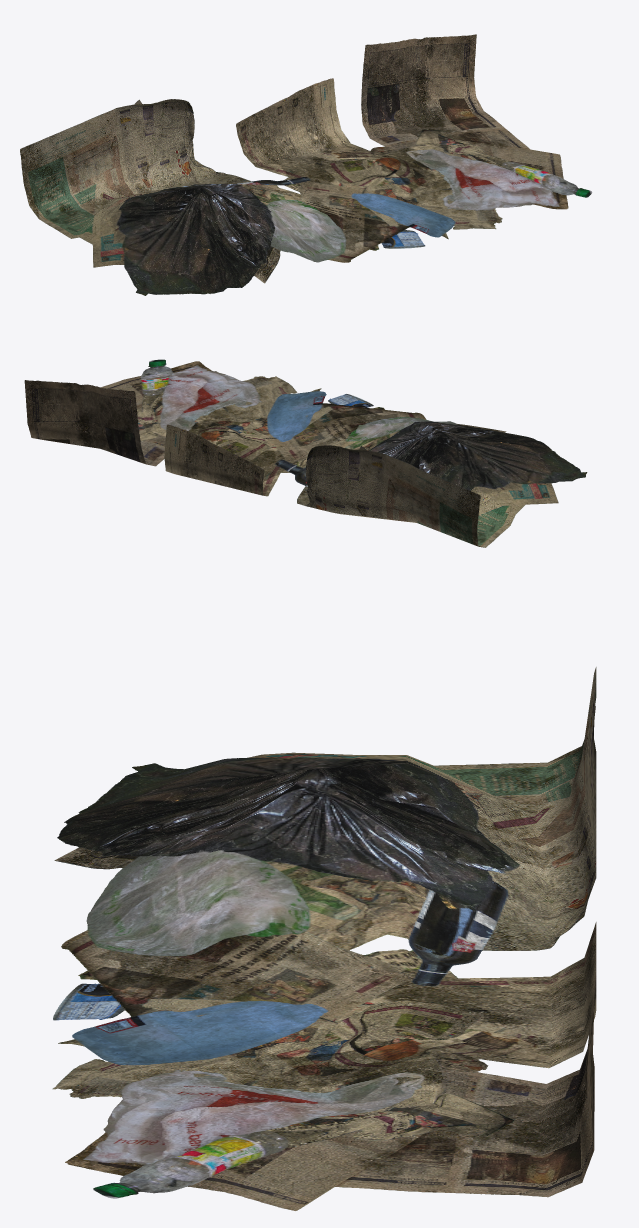
Rendered from 3D_Decal_01.fbx.
3 views of the same model, one above another, from view 1: azimuth 30°, elevation 25°; view 2: azimuth 150°, elevation 25°; view 3: azimuth 270°, elevation 25° (orthographic). The views are drawn at different scales.
Parts seen in each view (by area): view 1: THREED_Decal; view 2: THREED_Decal; view 3: THREED_Decal.
Part boxes in pixels (box(x1,y1,x2,y2)): THREED_Decal: box(20, 34, 592, 295); THREED_Decal: box(24, 359, 587, 547); THREED_Decal: box(52, 667, 596, 1210).
Bounding box in the file's own units: 2.42 × 0.4172 × 1.23.
